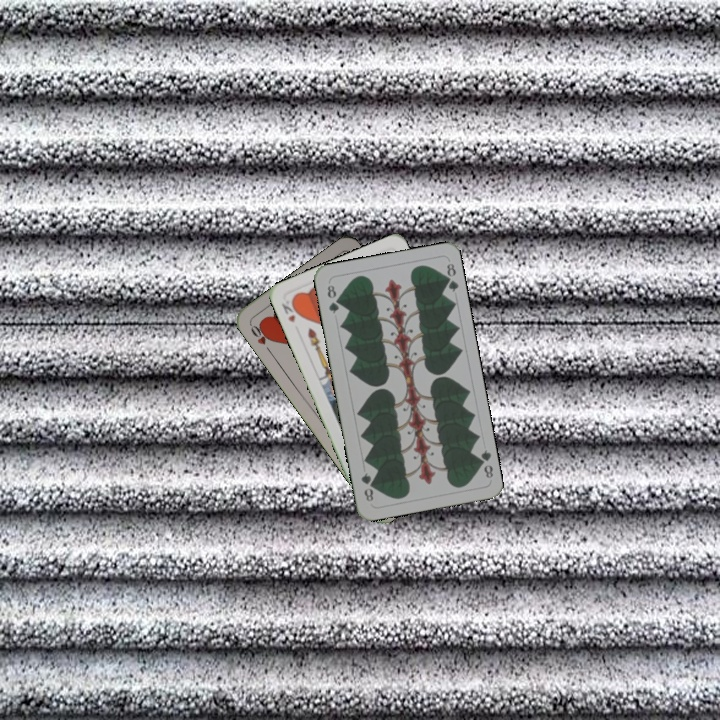G8: (473, 446, 496, 481), (323, 281, 342, 316)
HK: (277, 294, 302, 325)
HO: (246, 320, 275, 356)
